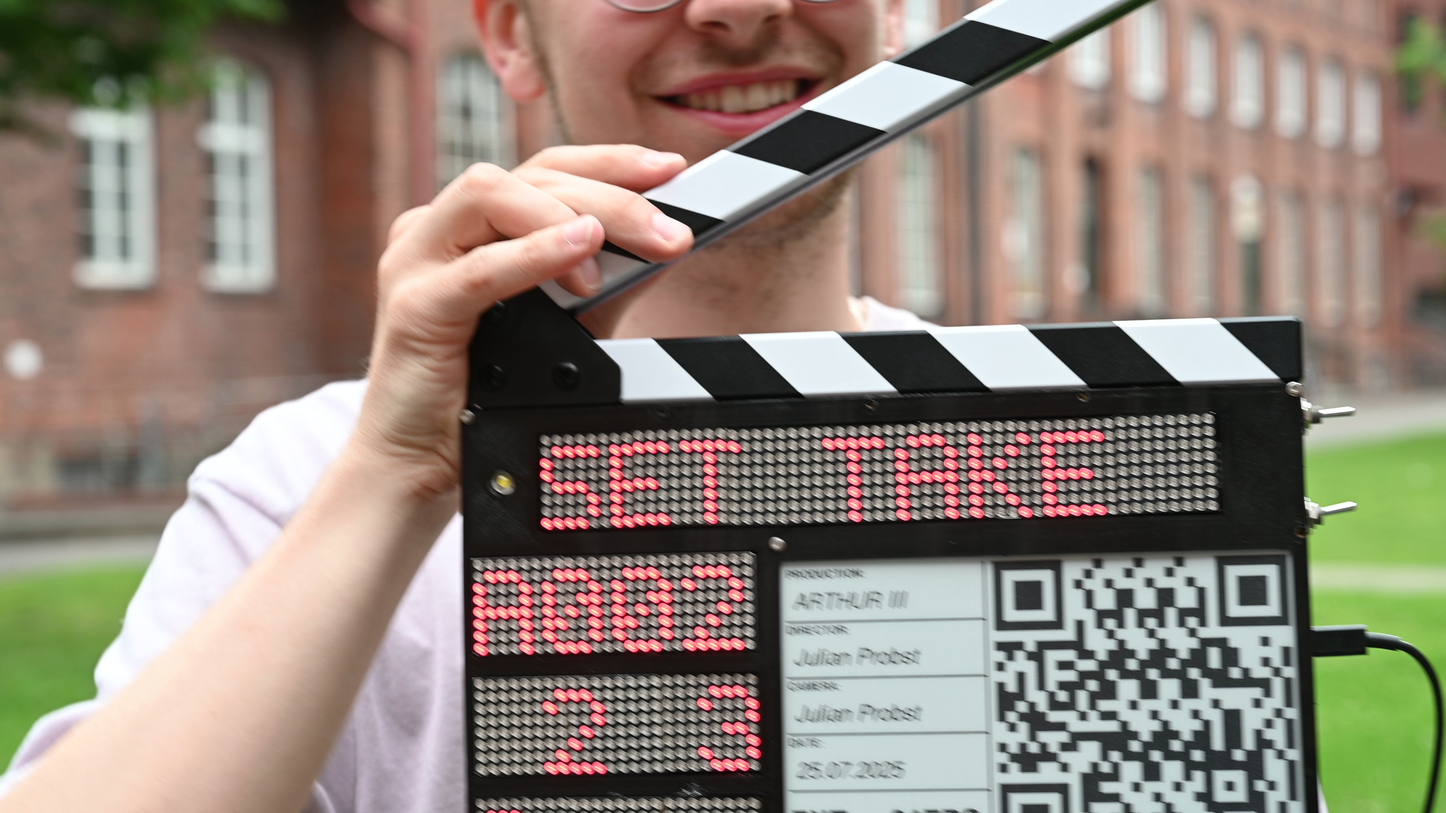ARC-SLATE: (465, 316, 1319, 811)
